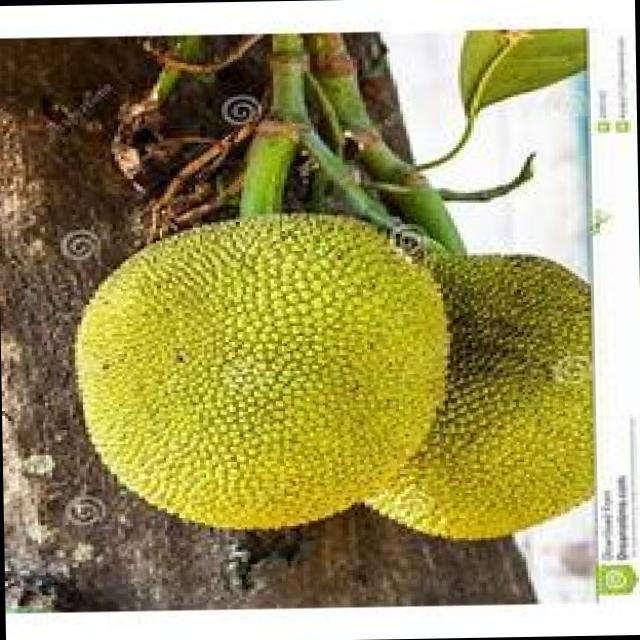Fruit: (59, 185, 482, 570)
